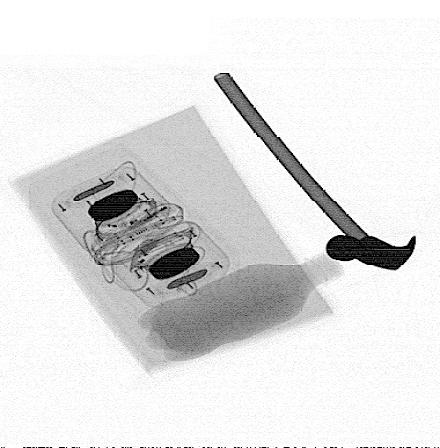Hammer: (213, 72, 417, 272)
